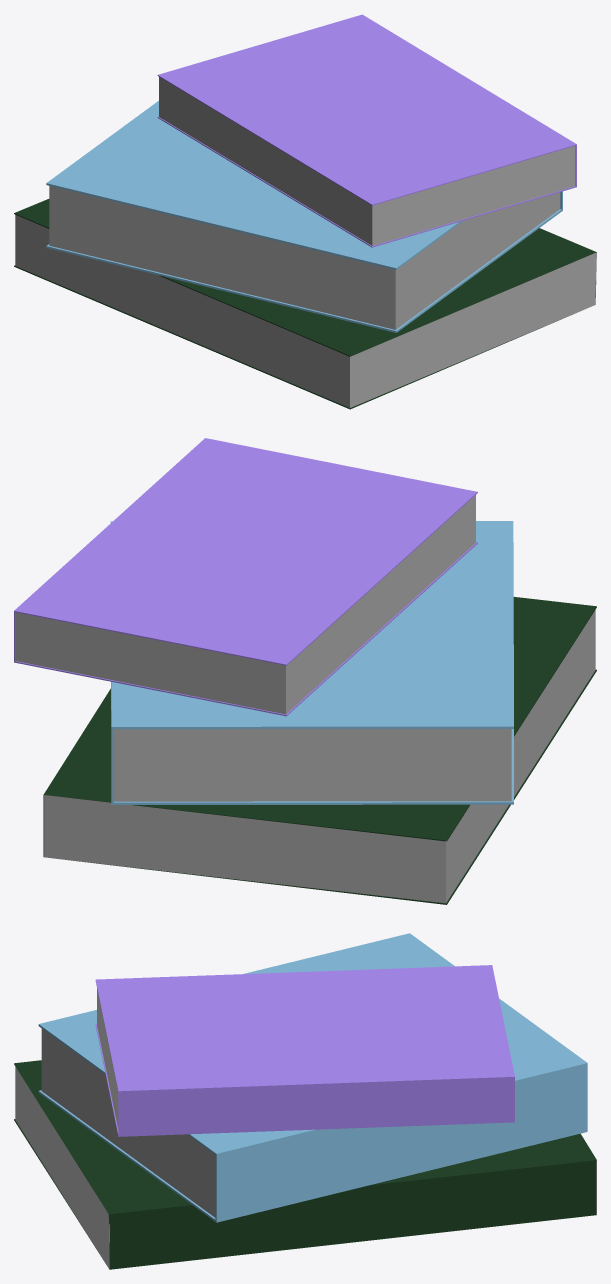
File: books6.fbx
3 views of the same model, one above another, from view 1: azimuth 30°, elevation 25°; view 2: azimuth 150°, elevation 25°; view 3: azimuth 270°, elevation 25° (orthographic). The views are drawn at different scales.
Parts seen in each view (by area): view 1: Book2.002; view 2: Book2.002; view 3: Book2.002.
Boxes of the visible parts, bbox=[...] form: Book2.002: bbox=[14, 14, 596, 409]; Book2.002: bbox=[14, 438, 596, 904]; Book2.002: bbox=[14, 933, 596, 1269].
Bounding box in the file's own units: 28.96 × 10.52 × 32.33.
